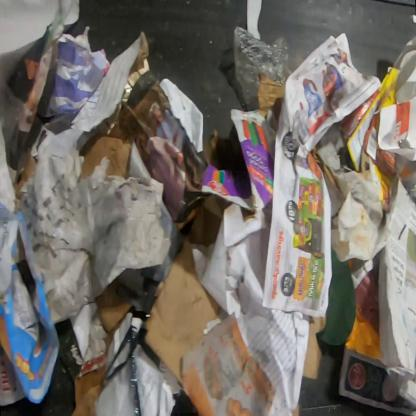cardboard: (144, 196, 230, 386), (0, 197, 62, 405), (338, 65, 413, 215), (70, 286, 134, 415), (202, 108, 277, 214), (76, 109, 134, 181), (302, 315, 327, 380), (258, 76, 284, 123)
rigid_plastic: (105, 321, 155, 415)
soft_plastic: (233, 25, 293, 112), (0, 72, 29, 174)
